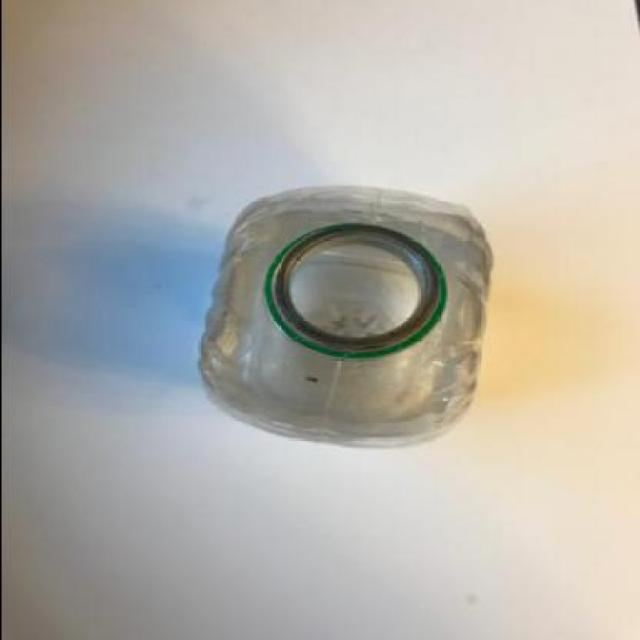PLASTIC: (200, 188, 492, 446)
